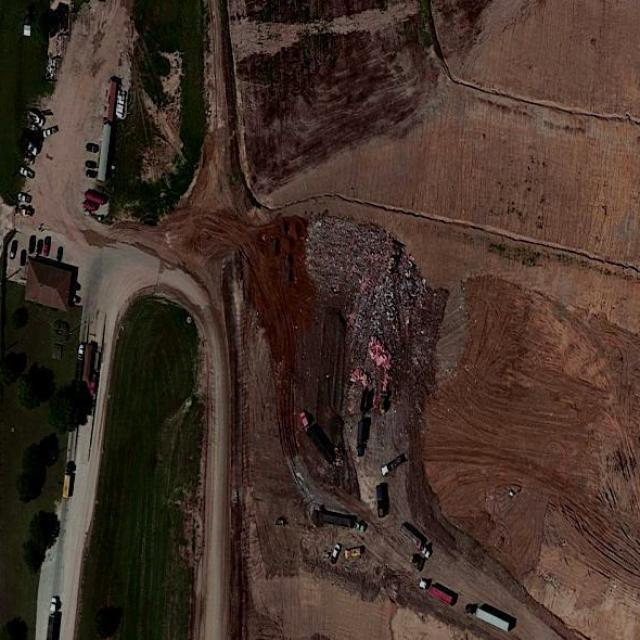dump_site: (279, 199, 453, 408)
